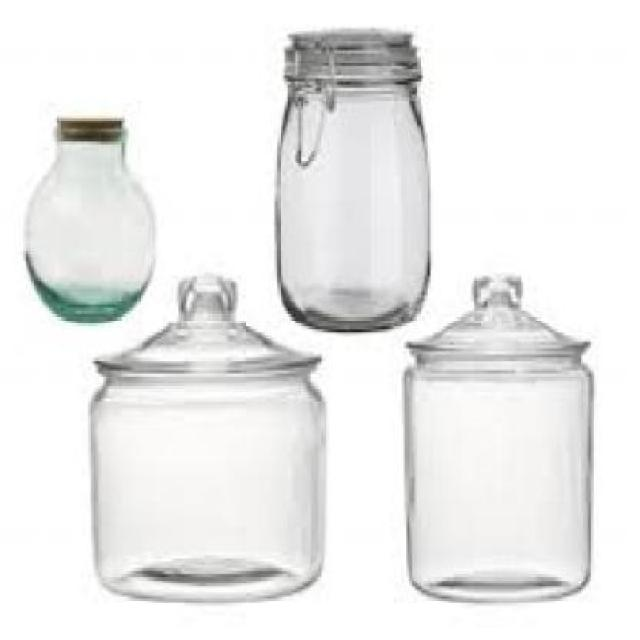GLASS: (91, 273, 329, 599), (407, 273, 596, 596), (277, 28, 432, 326), (26, 113, 159, 316)
